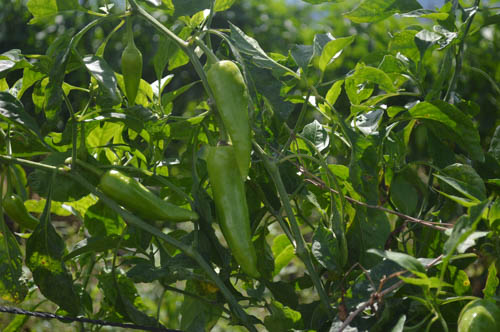ChiliPepper: (210, 146, 259, 275), (208, 63, 251, 178), (102, 171, 197, 223), (120, 52, 144, 105)
